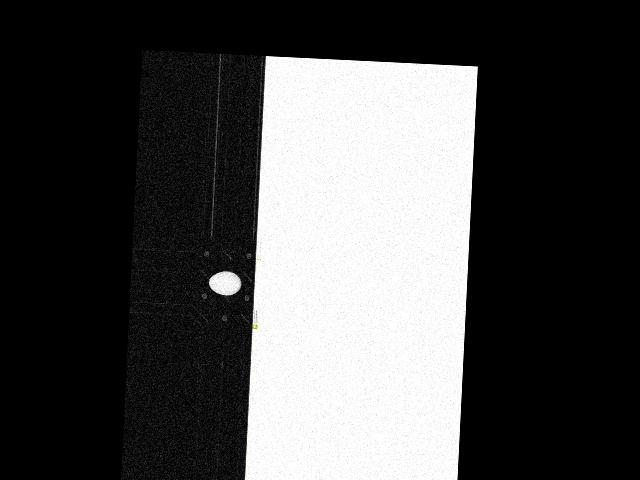egg: (208, 269, 242, 295)
